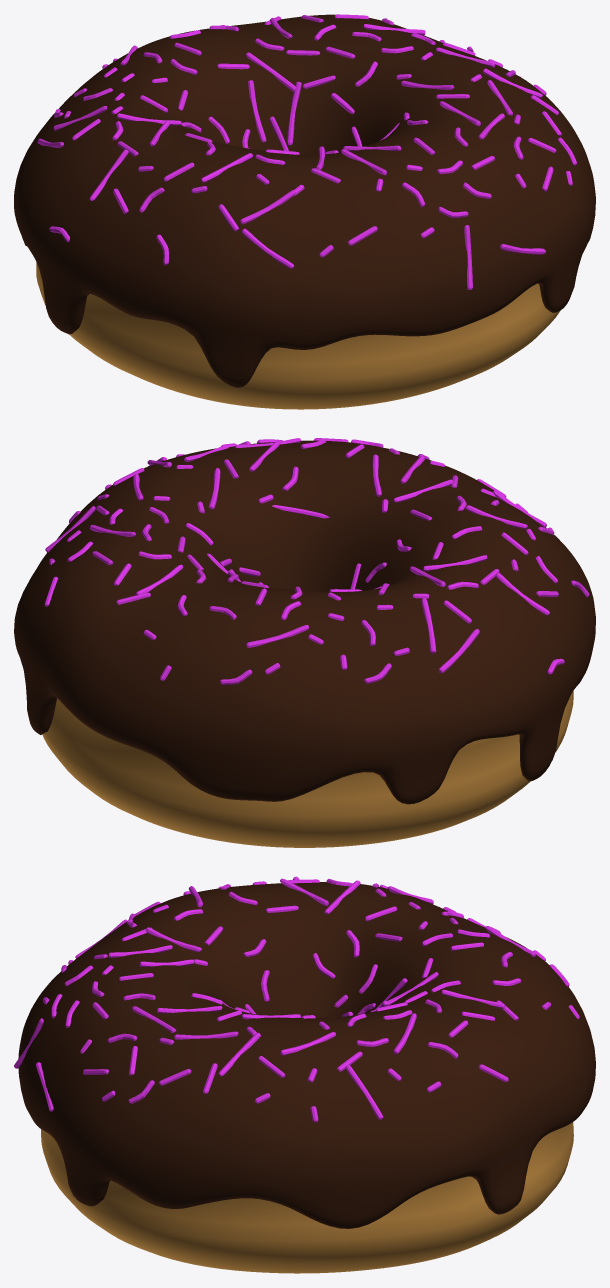
File: donut.glb
The picture shows the model from 3 angles, top to bottom: view 1: azimuth 30°, elevation 25°; view 2: azimuth 150°, elevation 25°; view 3: azimuth 270°, elevation 25°; orthographic projection. The views are drawn at different scales.
Visible parts, largest first — view 1: Torus; view 2: Torus; view 3: Torus.
Boxes of the visible parts, x1,y1,x2,y2 form: Torus: (14, 14, 595, 409); Torus: (14, 438, 595, 847); Torus: (14, 876, 595, 1273).
Size of the model in its own units: 0.0965 by 0.0449 by 0.0978.
Materials: 3 (1 with a texture image).
